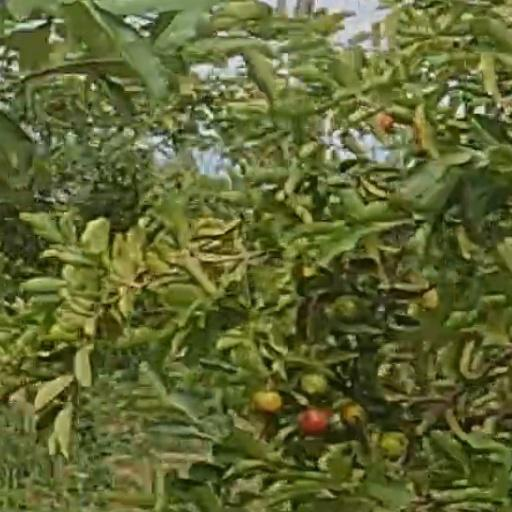acerola: (298, 411, 329, 435), (253, 394, 282, 414)
